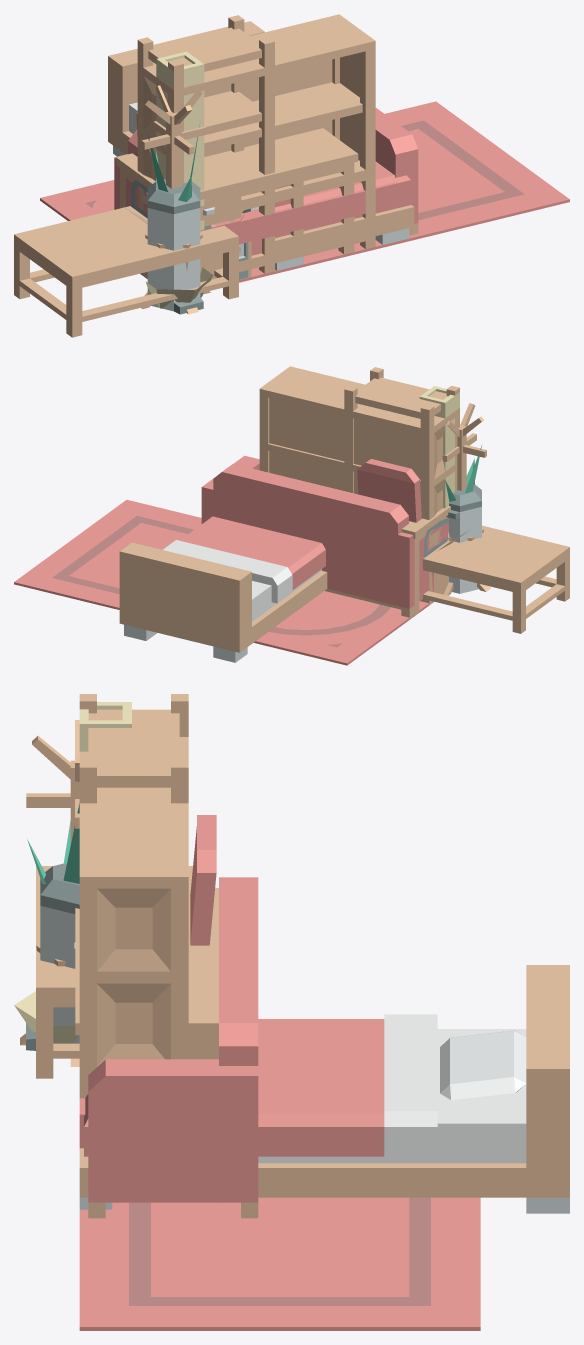
The model's file is furniture.glb.
3 renders of one model, top to bottom at view 1: azimuth 30°, elevation 25°; view 2: azimuth 150°, elevation 25°; view 3: azimuth 270°, elevation 25°, orthographic. The views are drawn at different scales.
Parts seen in each view (by area): view 1: bookcaseClosedWide(Clone), rugRectangle(Clone), tableCoffee(Clone), bookcaseOpen(Clone), Mesh desk, loungeSofa(Clone), Mesh bedSingle, trashcan(Clone), cabinetTelevision(Clone), lampSquareFloor(Clone), coatRackStanding(Clone), sideTable(Clone) (+7 smaller); view 2: bookcaseClosedWide(Clone), Mesh bedSingle, rugRectangle(Clone), loungeChair(Clone), tableCoffee(Clone), loungeSofa(Clone), cover, rugRound(Clone), bookcaseOpen(Clone), chair, trashcan(Clone), coatRackStanding(Clone) (+3 smaller); view 3: rugRectangle(Clone), loungeSofa(Clone), bookcaseClosedWide(Clone), Mesh bedSingle, cover, bookcaseOpen(Clone), pillow, Mesh desk, trashcan(Clone), tableCoffee(Clone), chair, coatRackStanding(Clone) (+5 smaller).
Part boxes in pixels (box(x1,y1,x2,y2)): bookcaseClosedWide(Clone): box(137, 14, 375, 275); rugRectangle(Clone): box(40, 101, 569, 282); tableCoffee(Clone): box(14, 206, 238, 337); bookcaseOpen(Clone): box(137, 15, 274, 273); Mesh desk: box(116, 128, 358, 254); loungeSofa(Clone): box(114, 108, 418, 255); Mesh bedSingle: box(108, 21, 414, 270); trashcan(Clone): box(146, 179, 203, 314); cabinetTelevision(Clone): box(139, 160, 375, 278); lampSquareFloor(Clone): box(156, 51, 204, 230); coatRackStanding(Clone): box(141, 85, 210, 314); sideTable(Clone): box(141, 166, 307, 263); bookcaseClosedWide(Clone): box(259, 366, 459, 604); Mesh bedSingle: box(119, 542, 327, 662); rugRectangle(Clone): box(14, 500, 429, 665); loungeChair(Clone): box(305, 489, 448, 619); tableCoffee(Clone): box(423, 525, 569, 633); loungeSofa(Clone): box(201, 455, 448, 616); cover: box(163, 516, 325, 603); rugRound(Clone): box(256, 591, 407, 645); bookcaseOpen(Clone): box(344, 367, 459, 493); chair: box(357, 459, 448, 557); trashcan(Clone): box(446, 482, 481, 593); coatRackStanding(Clone): box(442, 403, 490, 595); rugRectangle(Clone): box(79, 1197, 480, 1330); loungeSofa(Clone): box(79, 932, 258, 1218); bookcaseClosedWide(Clone): box(79, 737, 188, 1098); Mesh bedSingle: box(79, 965, 569, 1213); cover: box(84, 1014, 437, 1158); bookcaseOpen(Clone): box(79, 694, 188, 803); pillow: box(440, 1030, 526, 1100); Mesh desk: box(75, 888, 218, 1059); trashcan(Clone): box(26, 863, 79, 1050); tableCoffee(Clone): box(36, 866, 192, 1078); chair: box(190, 815, 216, 945); coatRackStanding(Clone): box(20, 720, 79, 1066).
Bounding box in the file's own units: 2.03 × 0.88 × 1.28.
